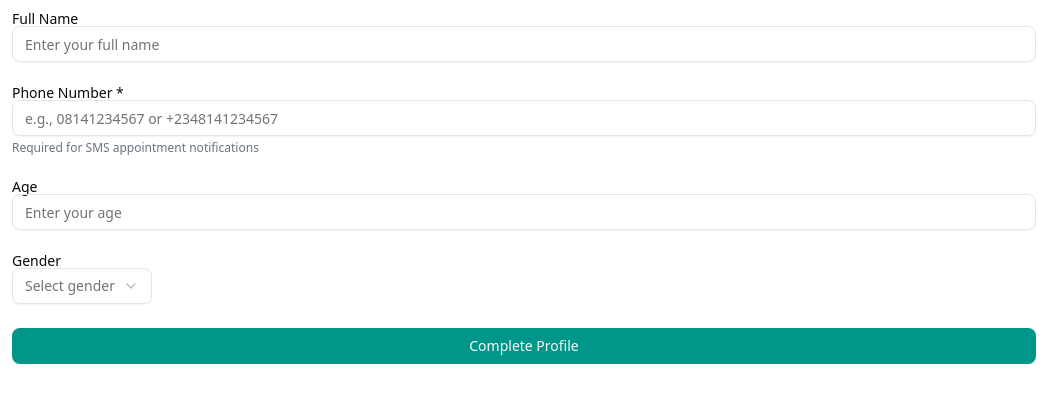
CompleteProfileForm › validates phone number format
Type "John Doe" into the field labelled "Full Name" at (524, 44), box [12,26,1036,62]
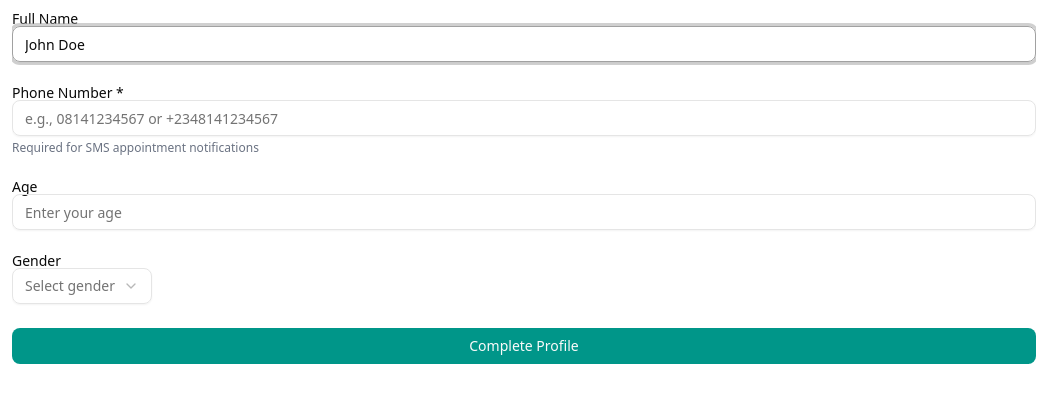
Type "invalid-phone" into the field labelled "Phone Number *" at (524, 118), box [12,100,1036,136]
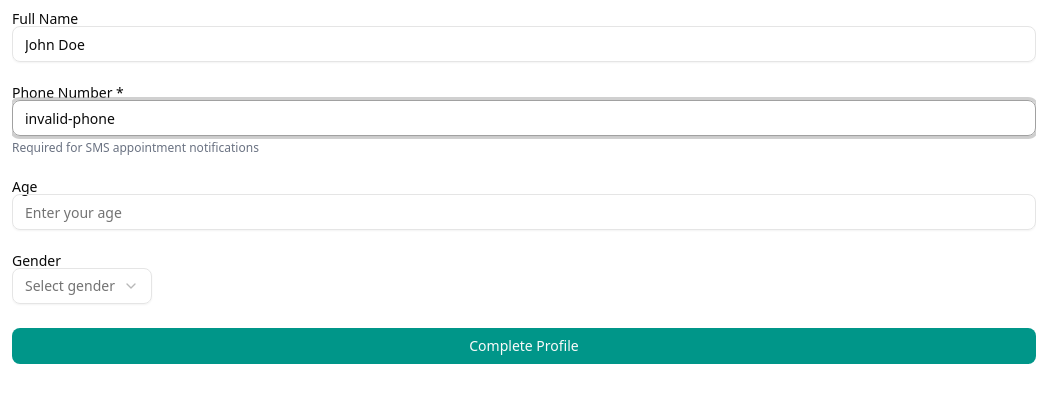
Click the button "Complete Profile" at (524, 346), box [12,328,1036,364]
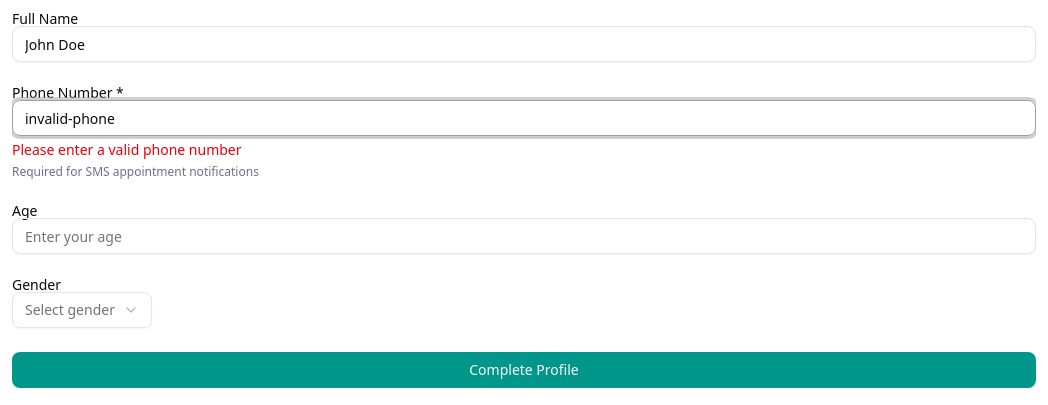
expect the text "Please enter a valid phone number" is shown: met, box [12,140,242,159]
